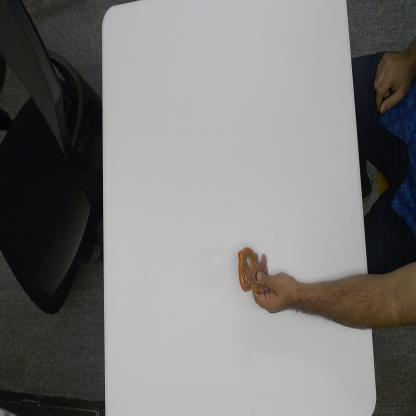Arm: (307, 253, 416, 335)
Hand: (254, 263, 306, 315)
Pretzel: (235, 243, 267, 290)
